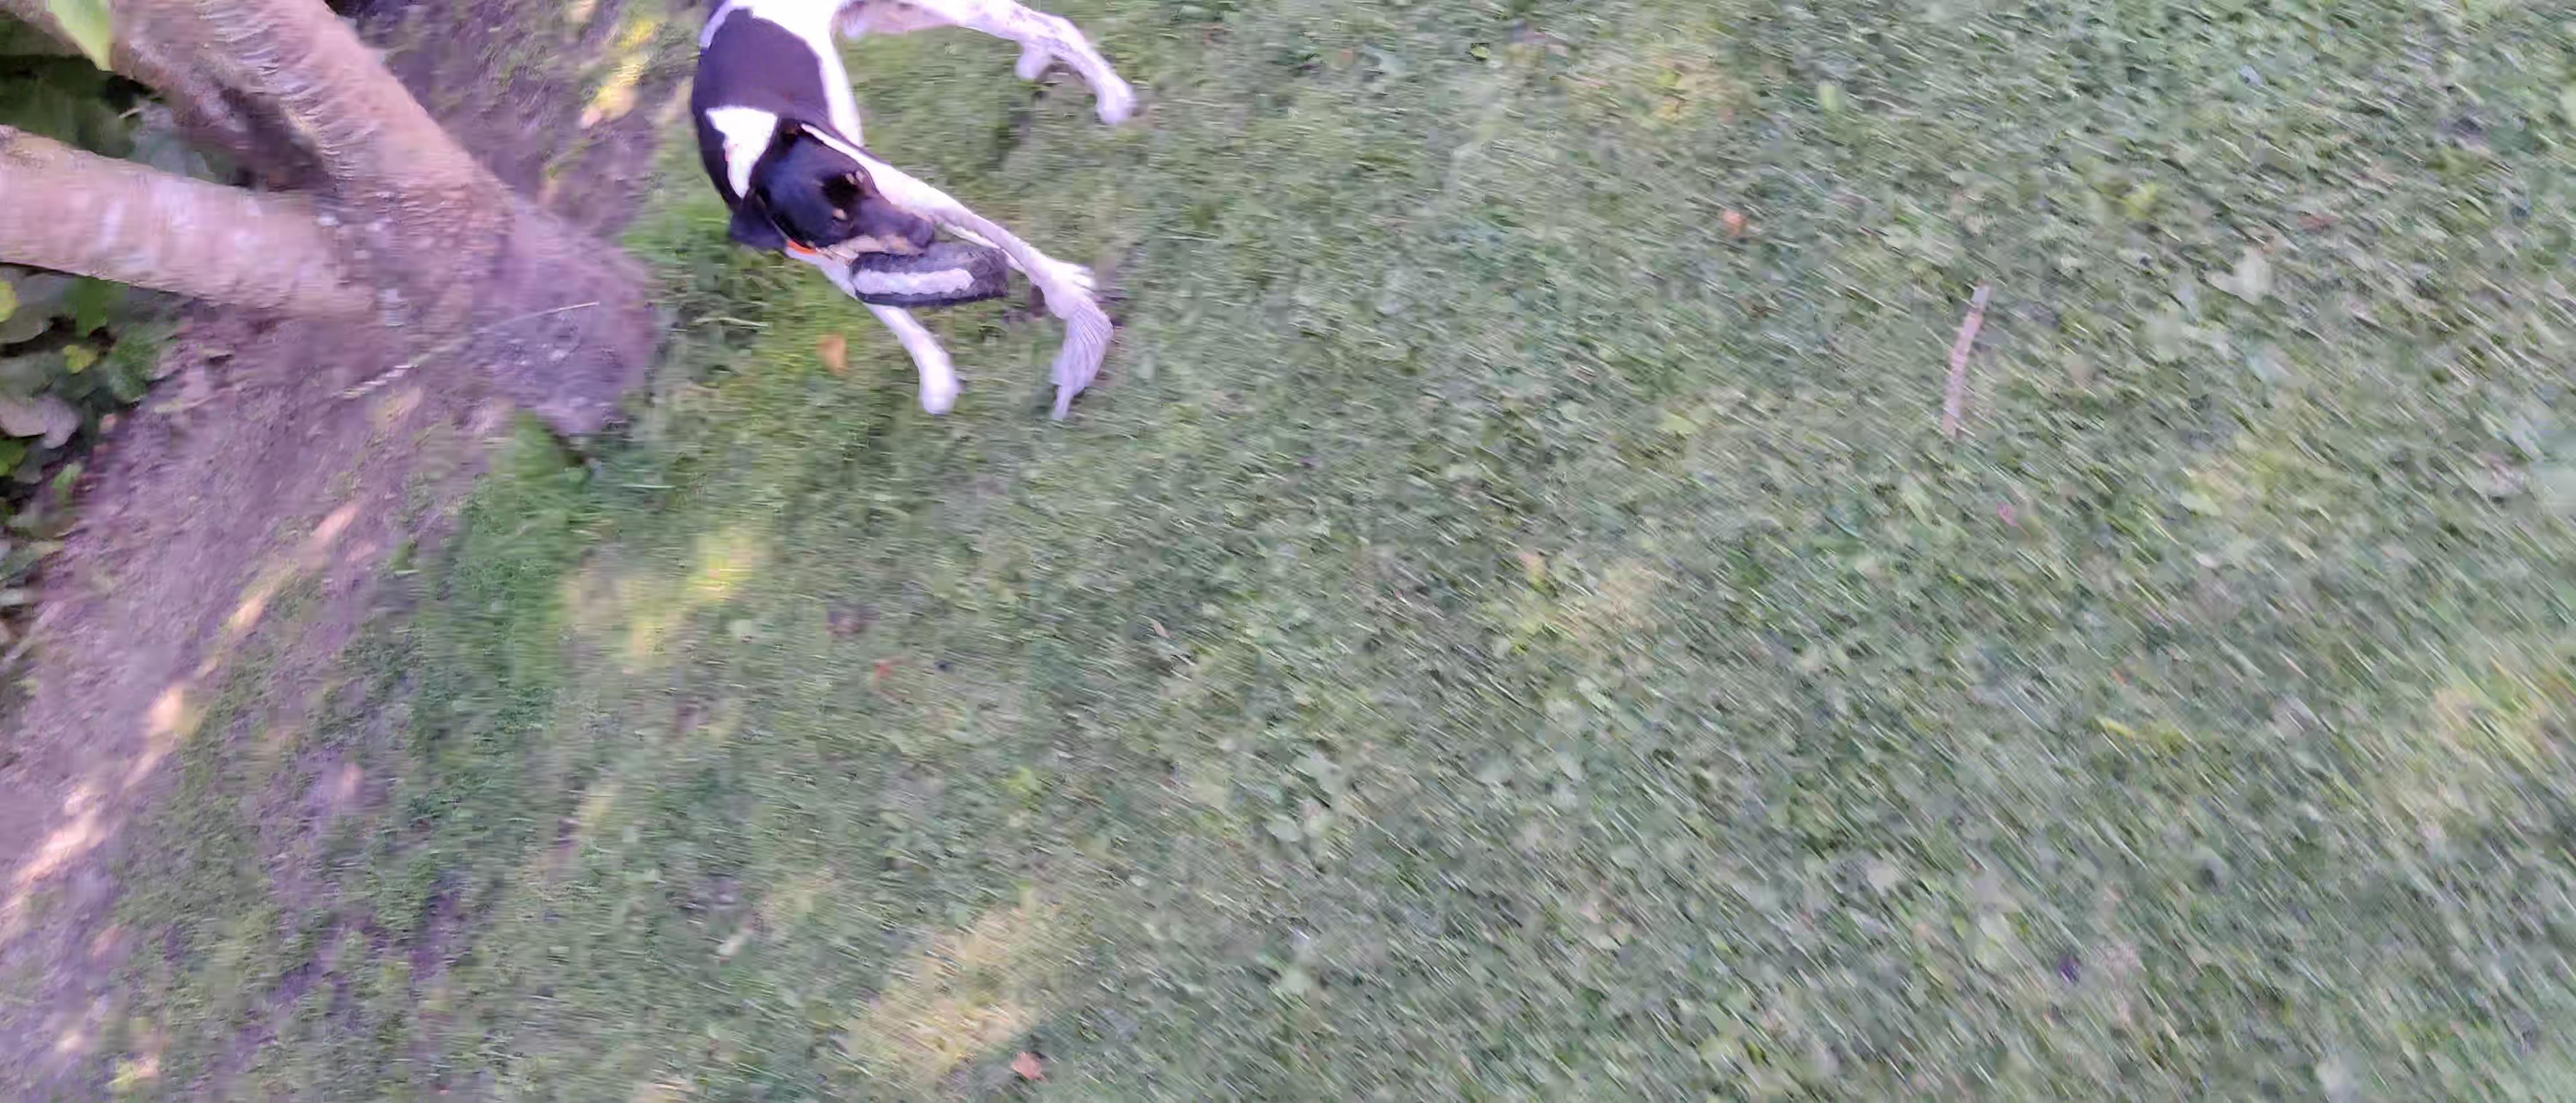Dog: (685, 0, 1163, 429)
